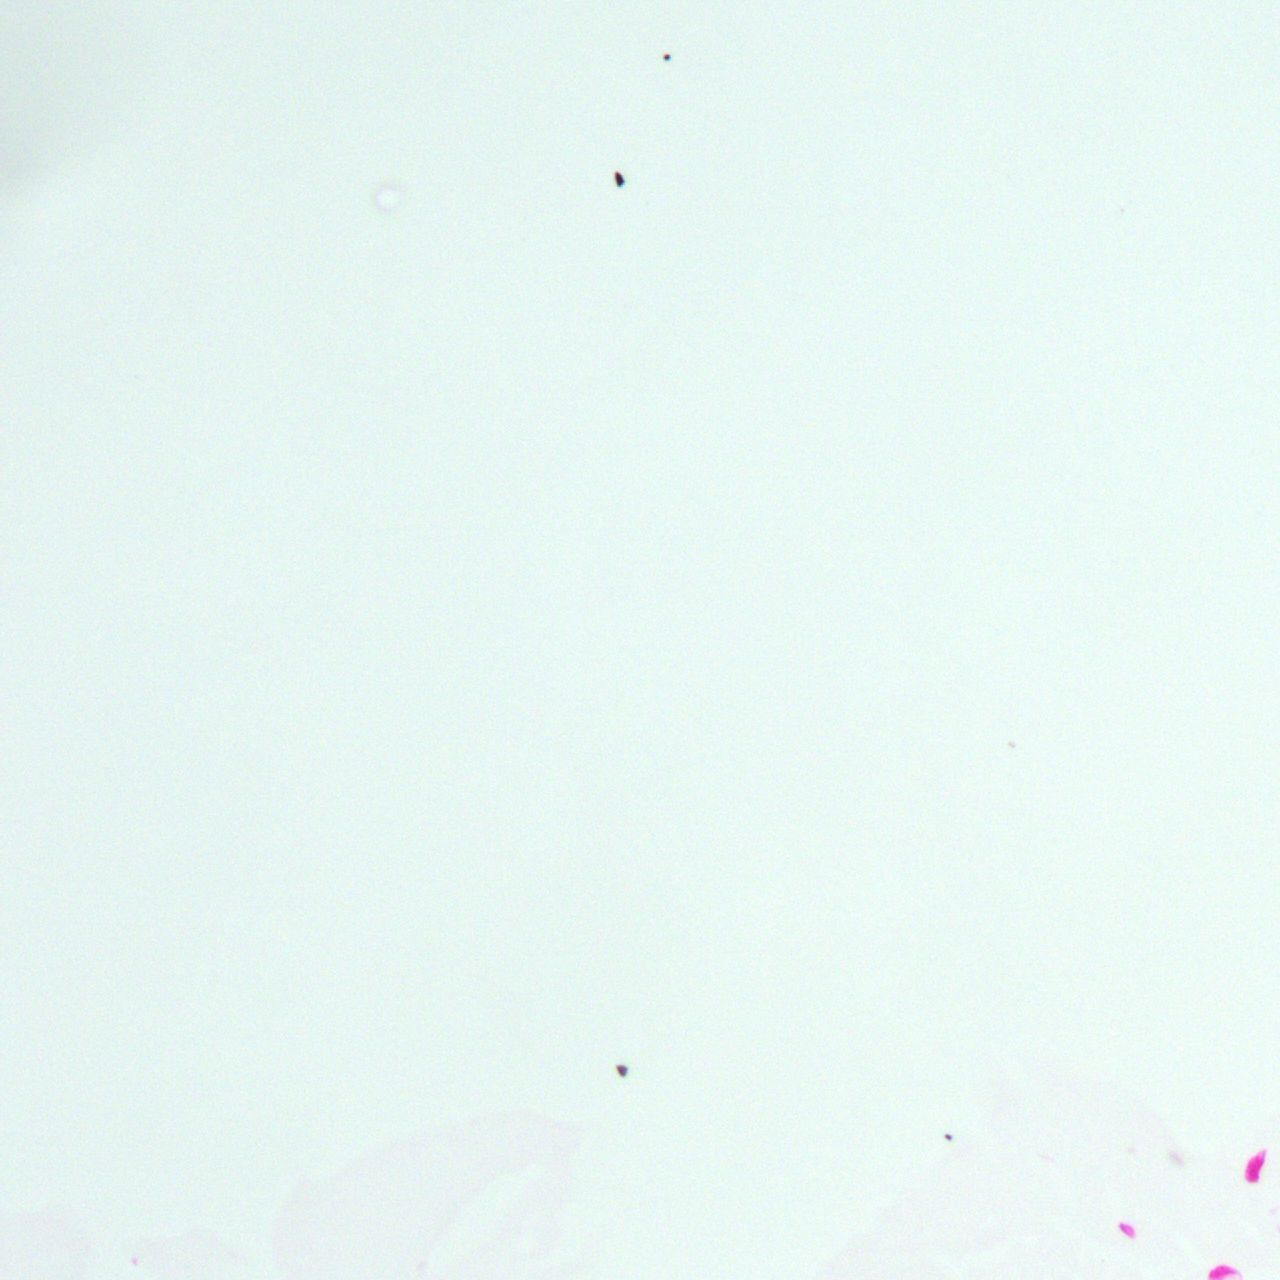dust: (615, 1064, 628, 1077), (614, 170, 624, 188), (942, 1133, 952, 1139), (663, 53, 670, 60)
nucleus-FG: (1117, 1219, 1137, 1239)
